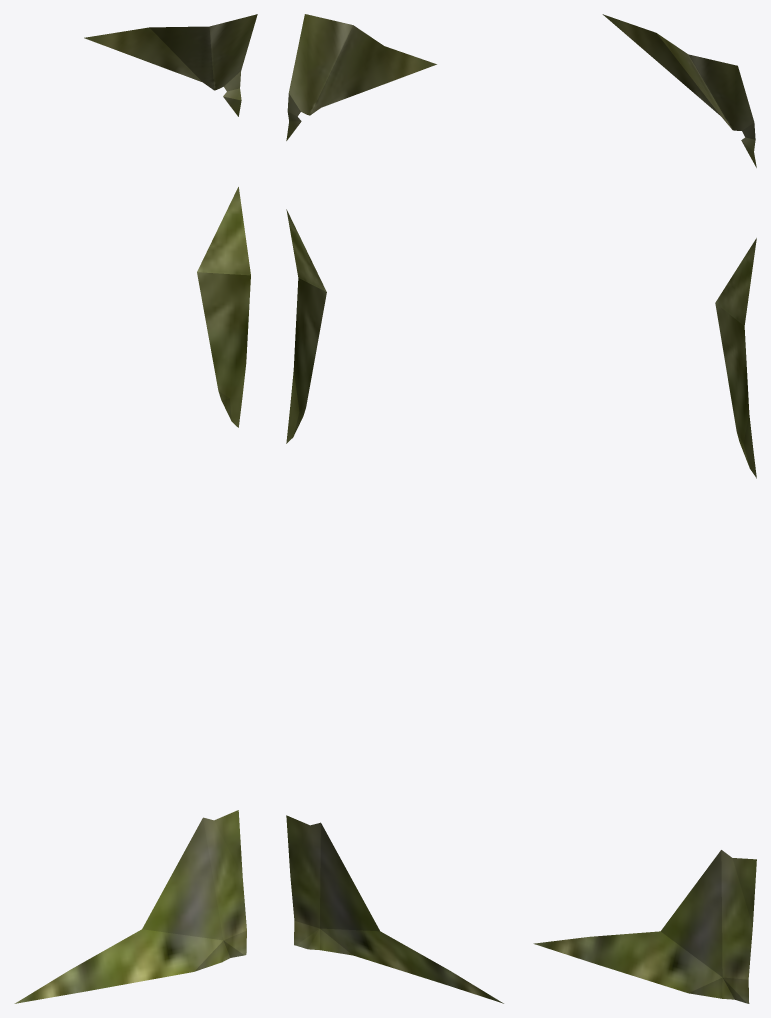
3 views of the same model, side by side, from view 1: azimuth 30°, elevation 25°; view 2: azimuth 150°, elevation 25°; view 3: azimuth 330°, elevation 25° (orthographic). The views are drawn at different scales.
Bounding box in the file's own units: 0.73 × 2.95 × 0.1117.
Materials: 1 (1 with a texture image).
